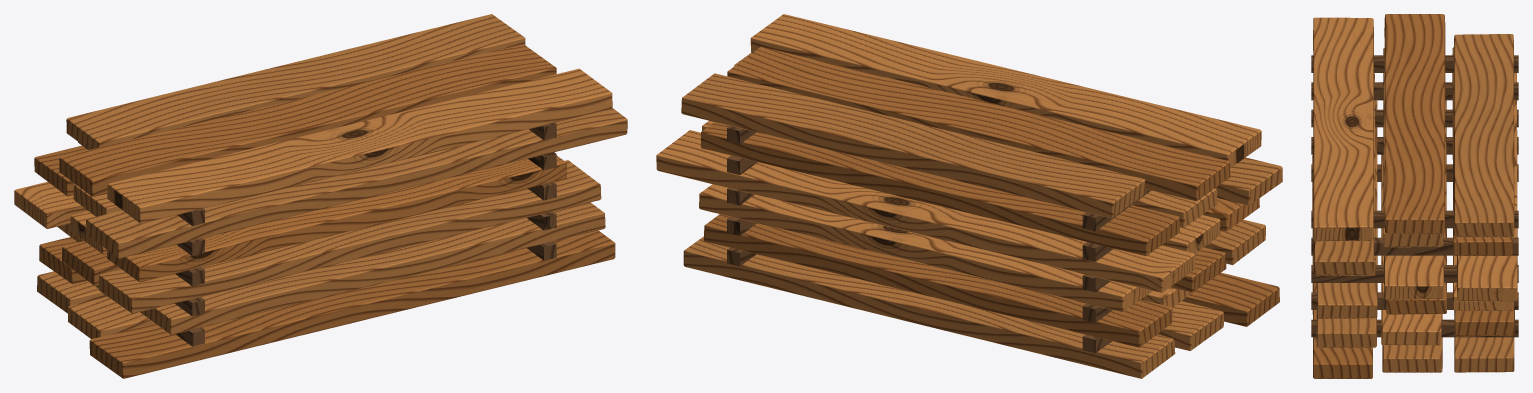
Rendered from Plank_Stack.glb.
The picture shows the model from 3 angles, left to right: view 1: azimuth 30°, elevation 25°; view 2: azimuth 150°, elevation 25°; view 3: azimuth 270°, elevation 25°; orthographic projection. The views are drawn at different scales.
Parts seen in each view (by area): view 1: Plank_Stack; view 2: Plank_Stack; view 3: Plank_Stack.
Boxes of the visible parts, left/top/right/bottom form: Plank_Stack: left=14, top=14, right=627, bottom=378; Plank_Stack: left=656, top=14, right=1282, bottom=378; Plank_Stack: left=1311, top=14, right=1518, bottom=378.
Size of the model in its own units: 1.6 by 0.5026 by 0.62.
Materials: 3 (3 with a texture image).
